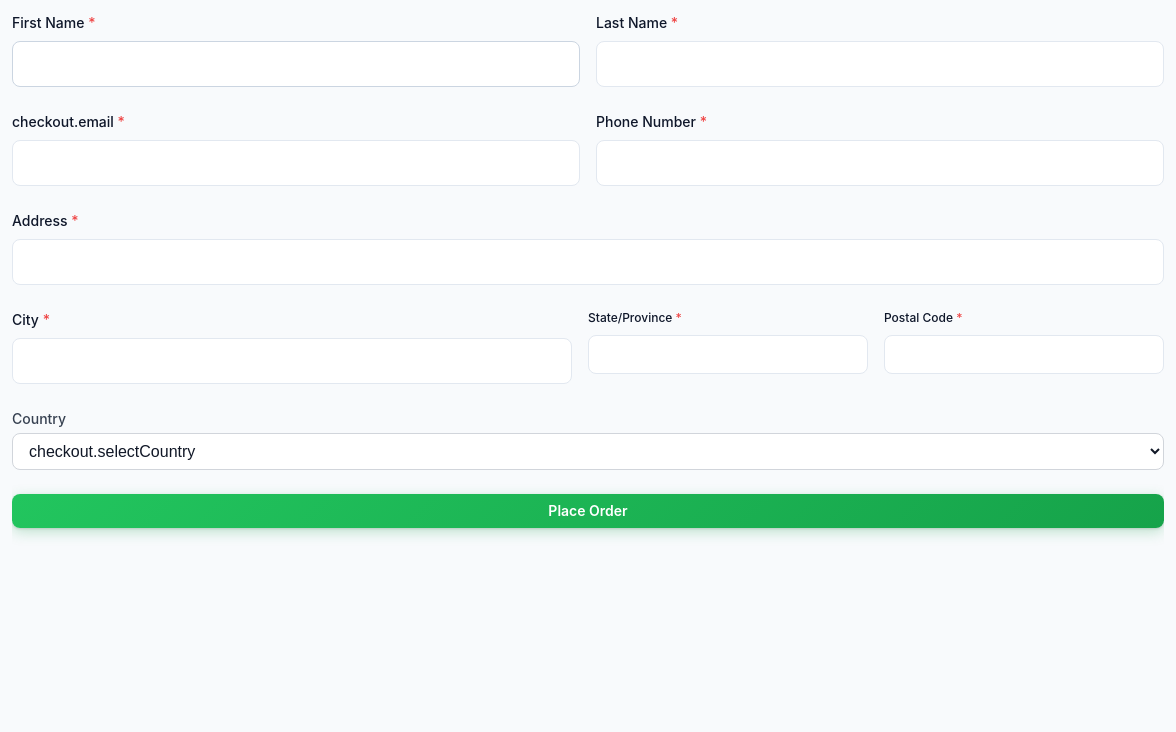
Test case: CheckoutForm › shows invalid email error for malformed email
In the field labelled "checkout.email": {"x": 296, "y": 163} x1=12 y1=140 x2=580 y2=186, type "not-an-email"
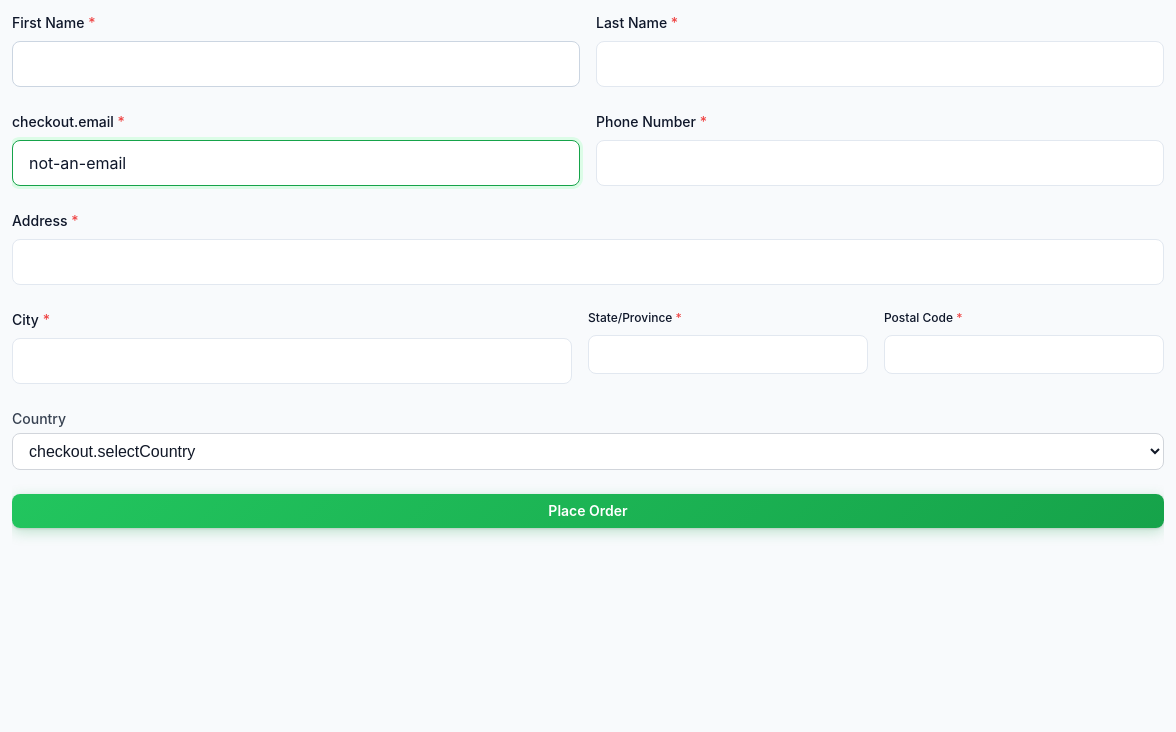
Click the button "Place Order": {"x": 588, "y": 511} x1=12 y1=494 x2=1164 y2=528
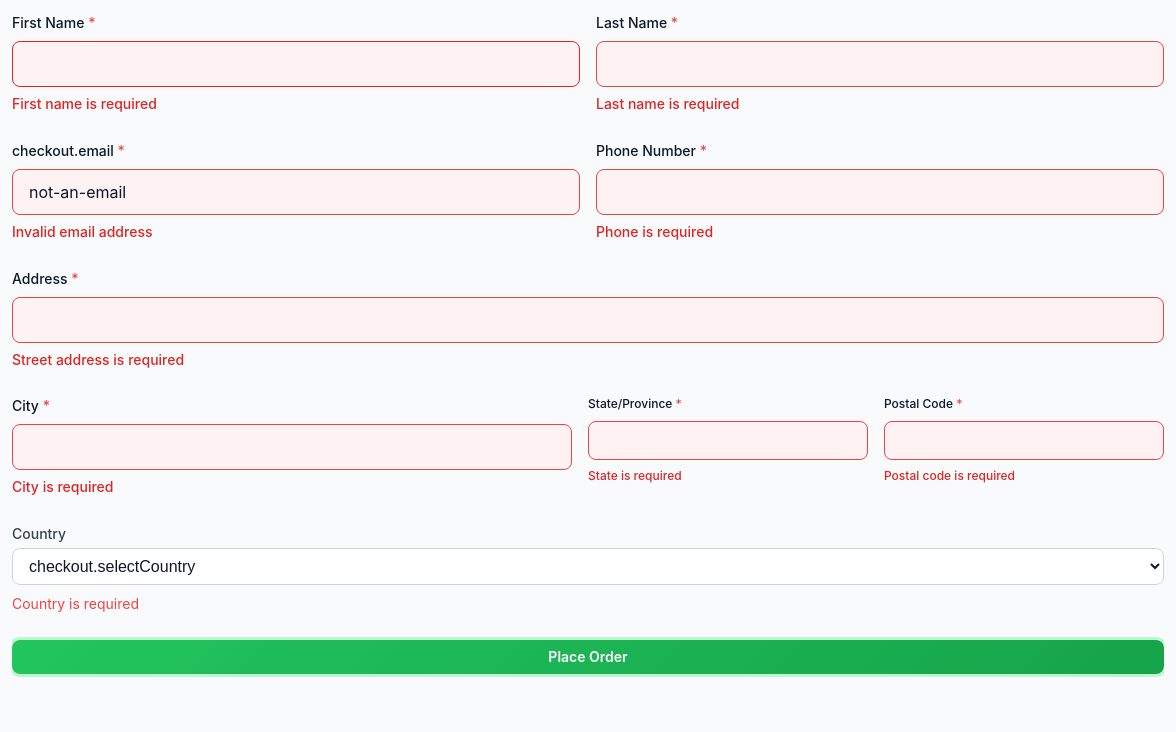
Now the text "Invalid email address" is shown, box x1=12 y1=223 x2=152 y2=240
